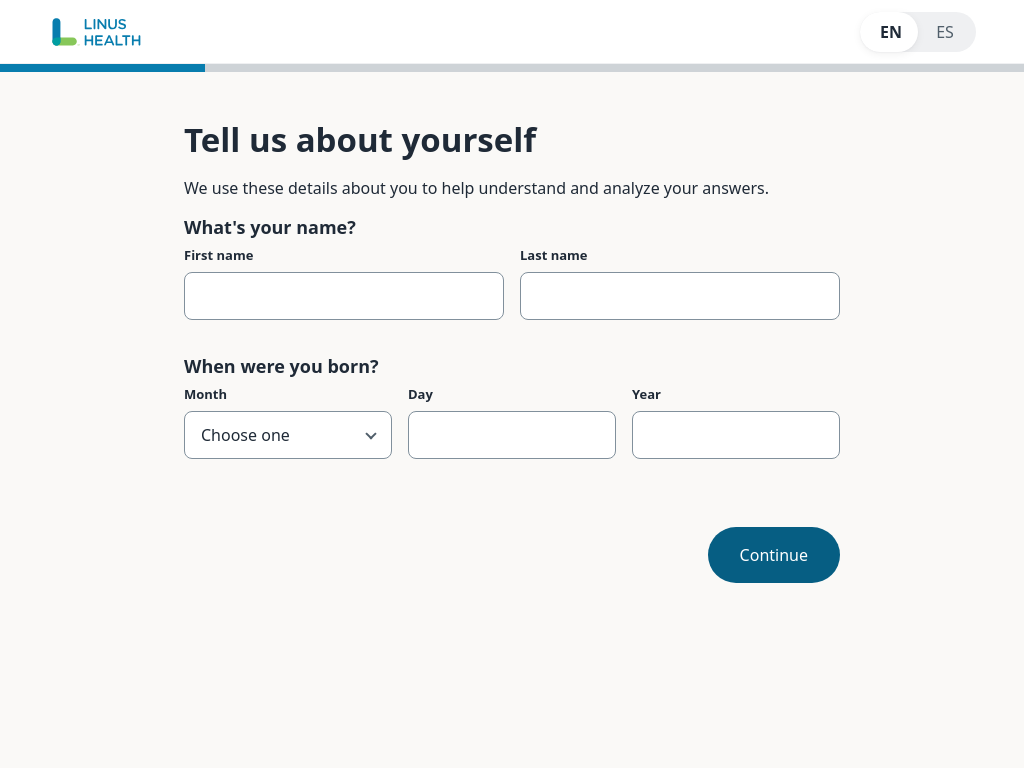
Test: OnboardingPage › shows a respective error below every field when Continue is clicked with the whole form empty
Click the button "Continue" at (774, 555), box left=708, top=527, right=840, bottom=583
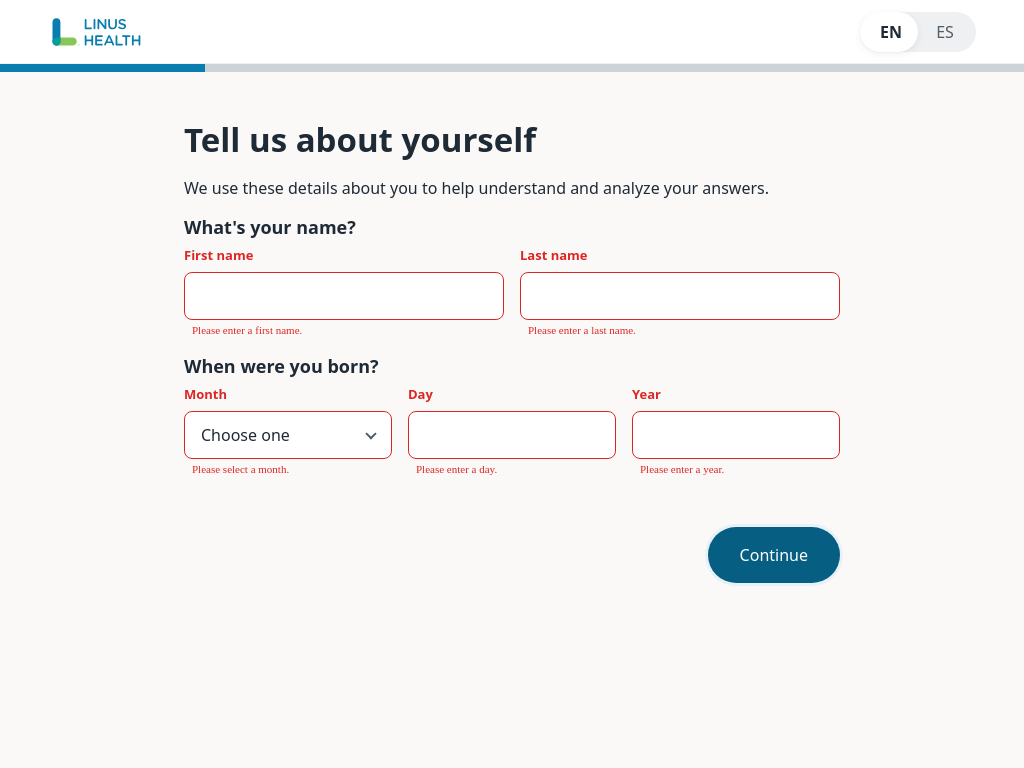
expect the text "Please enter a first name." is shown: met, box left=192, top=324, right=302, bottom=336
expect the text "Please enter a last name." is shown: met, box left=528, top=324, right=636, bottom=336
expect the text "Please select a month." is shown: met, box left=192, top=463, right=289, bottom=475
